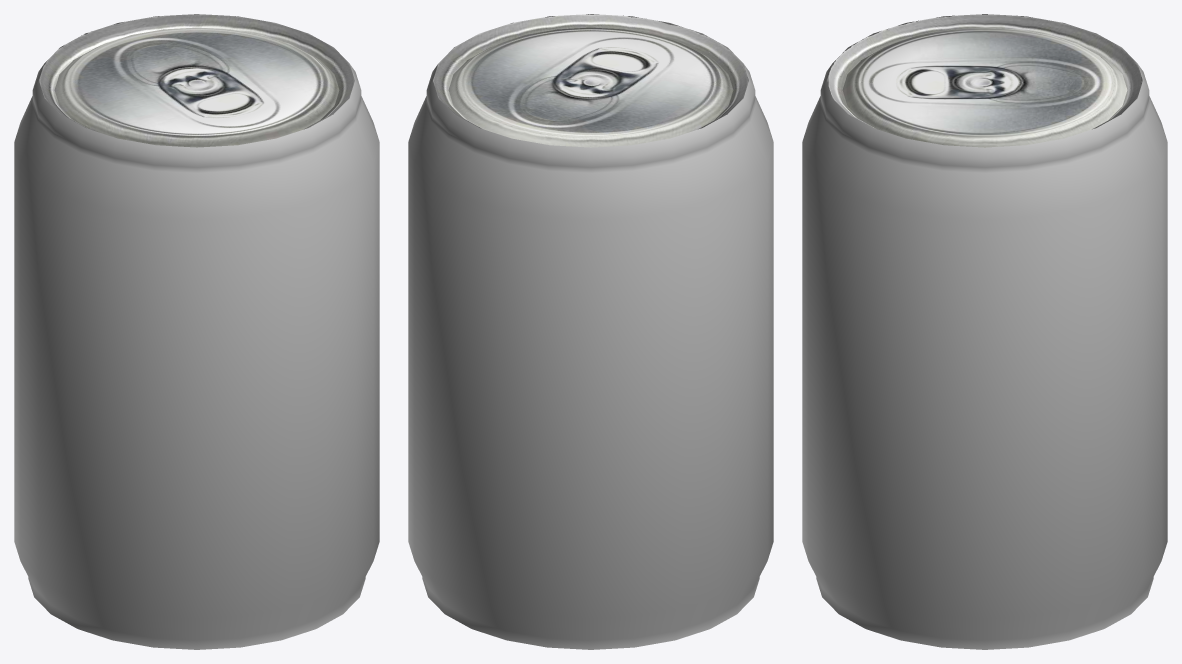
Rendered from Cokecan_textured.obj.
3 renders of one model, left to right at view 1: azimuth 30°, elevation 25°; view 2: azimuth 150°, elevation 25°; view 3: azimuth 270°, elevation 25°, orthographic.
Visible parts, largest first — view 1: cylinder1; view 2: cylinder1; view 3: cylinder1.
Boxes of the visible parts, bbox=[...] form: cylinder1: bbox=[14, 14, 379, 649]; cylinder1: bbox=[408, 14, 773, 649]; cylinder1: bbox=[802, 14, 1167, 649].
Size of the model in its own units: 3.66 by 5.5 by 3.66.
